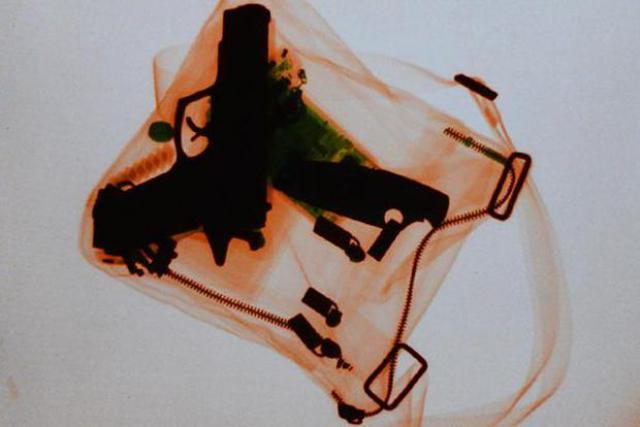Gun: (88, 0, 272, 273)
